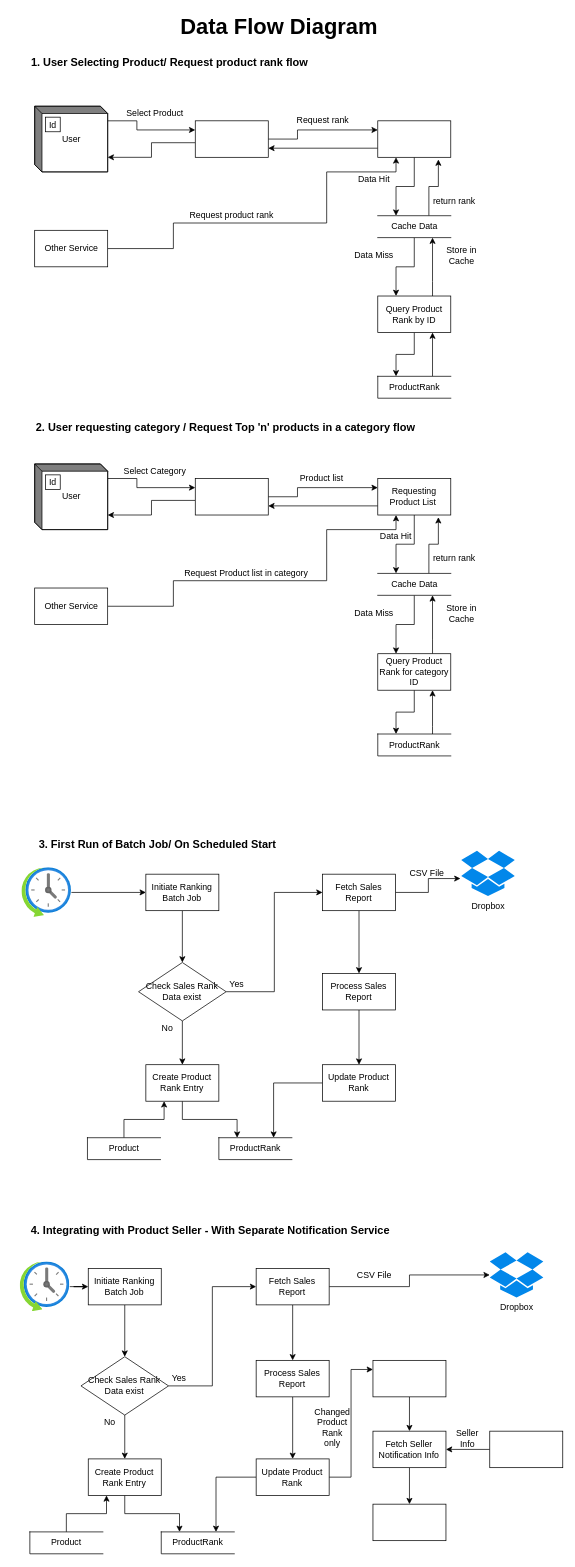
Some shapes in this 575 by 1567 pixel diagram are drawn without their labels. The centre of each missing label's shape, as x and y in pixels:
Category Selection: point 231,496
Notify Seller: point 409,1522
Product Selection: point 231,138
Publish to Notification Q: point 409,1378
Requesting Product Rank: point 414,138
Seller service: point 526,1449
